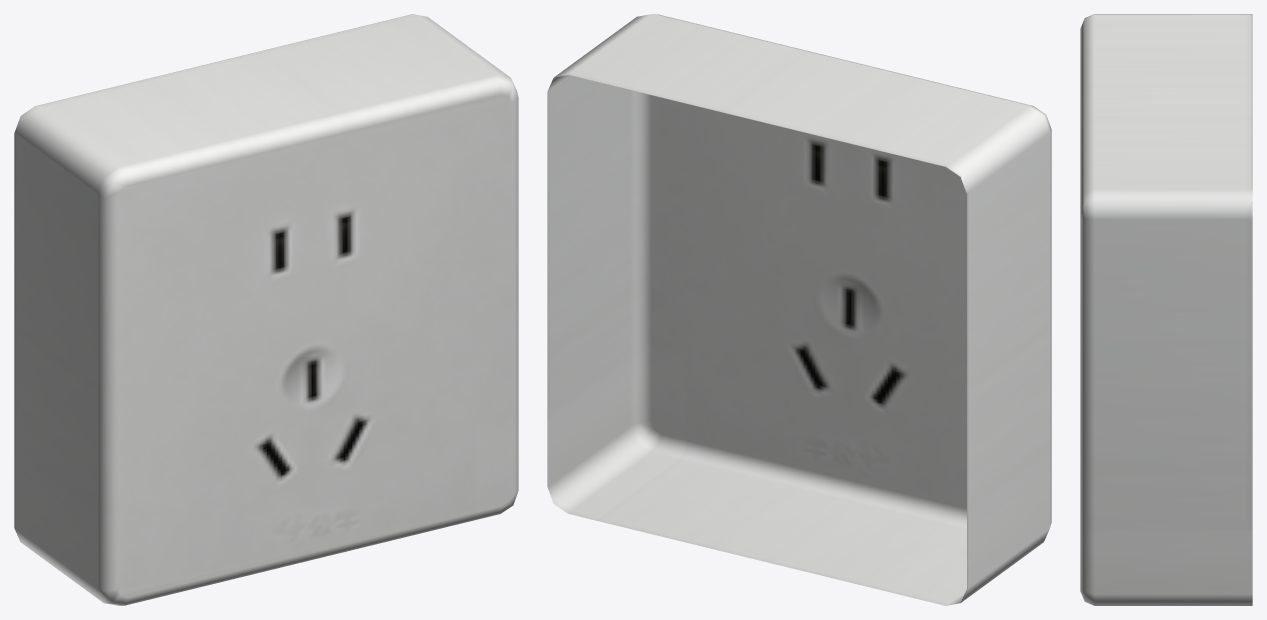
The model's file is ChaZuo.fbx.
3 renders of one model, left to right at view 1: azimuth 30°, elevation 25°; view 2: azimuth 150°, elevation 25°; view 3: azimuth 270°, elevation 25°, orthographic. The views are drawn at different scales.
Parts seen in each view (by area): view 1: ChaZuo; view 2: ChaZuo; view 3: ChaZuo.
Part boxes in pixels (x1,y1,x2,y2): ChaZuo: [14, 14, 518, 605]; ChaZuo: [547, 14, 1051, 605]; ChaZuo: [1080, 14, 1252, 605].
Size of the model in its own units: 8 by 8 by 3.
Materials: 1 (1 with a texture image).
